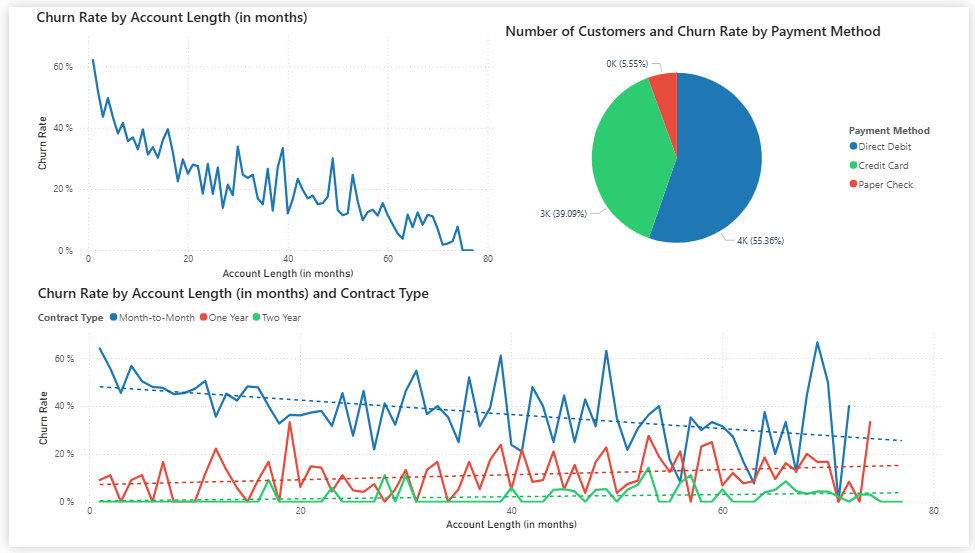

What the dashboard file says about the page in this screenshot:
{"tool":"powerbi","page":{"name":"Churn by Contract Type","canvas":[1280,720],"ordinal":1},"visuals":[{"type":"lineChart","fields":{"Y":["Databel - Data.Churn Rate"],"Category":["Databel - Data.Account Length (in months)"]},"box":[31.9,0,621.7,368.3],"z":0,"group":"g1"},{"type":"lineChart","fields":{"Y":["Databel - Data.Churn Rate"],"Category":["Databel - Data.Account Length (in months)"],"Series":["Databel - Data.Contract Type"]},"box":[32.8,369.1,1214.5,335.1],"z":0},{"type":"group","id":"g1","title":"Group 1","box":[31.9,0,1216.5,368.3],"z":1000},{"type":"pieChart","fields":{"Category":["Databel - Data.Payment Method"],"Y":["Databel - Data.Number of Customers"]},"box":[656.4,18.9,592,341.1],"z":1000,"group":"g1"}]}

Visuals, with their boxes in screenshot pixels (x1, y1, x2, y2), scaled from the page's 1280x720 canvas onto the 975x553 screenshot:
lineChart - Databel - Data.Churn Rate x Databel - Data.Account Length (in months): {"x1": 24, "y1": 0, "x2": 498, "y2": 283}
lineChart - Databel - Data.Churn Rate x Databel - Data.Account Length (in months): {"x1": 25, "y1": 283, "x2": 950, "y2": 541}
"Group 1" group: {"x1": 24, "y1": 0, "x2": 951, "y2": 283}
pieChart - Databel - Data.Payment Method x Databel - Data.Number of Customers: {"x1": 500, "y1": 15, "x2": 951, "y2": 276}
